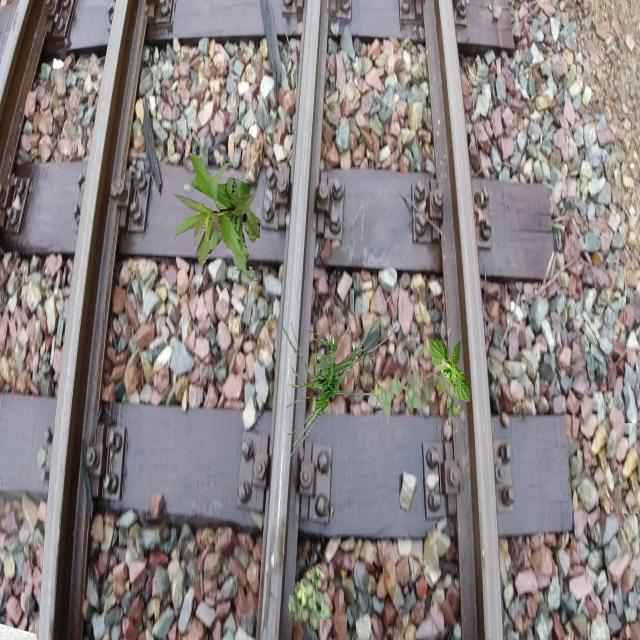Plant: (279, 295, 398, 458), (172, 152, 260, 282), (374, 358, 461, 426), (429, 337, 471, 408), (288, 564, 332, 630)
